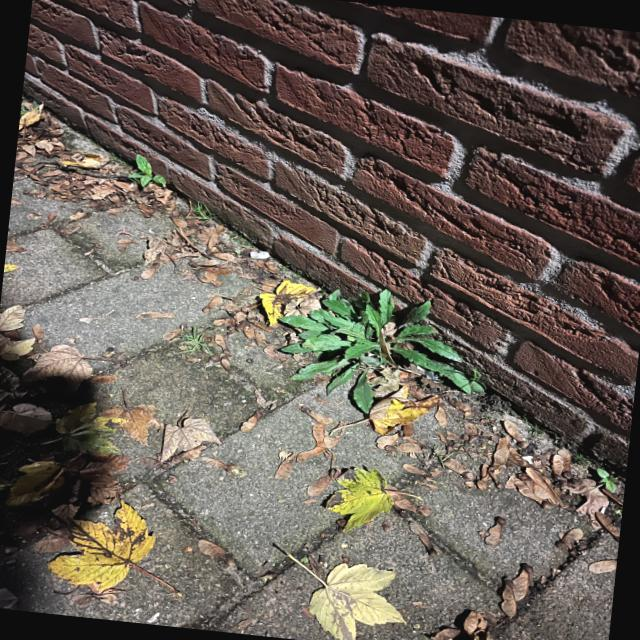leaves: (0, 346, 79, 509), (49, 503, 158, 592), (431, 566, 543, 640), (12, 112, 110, 196), (70, 412, 200, 470), (304, 562, 404, 636), (486, 420, 560, 506), (152, 221, 235, 276), (326, 468, 398, 526)
pavement: (22, 189, 613, 639)
weed: (273, 284, 493, 422), (124, 154, 167, 198), (582, 470, 616, 492)
weedling: (166, 324, 227, 363)
